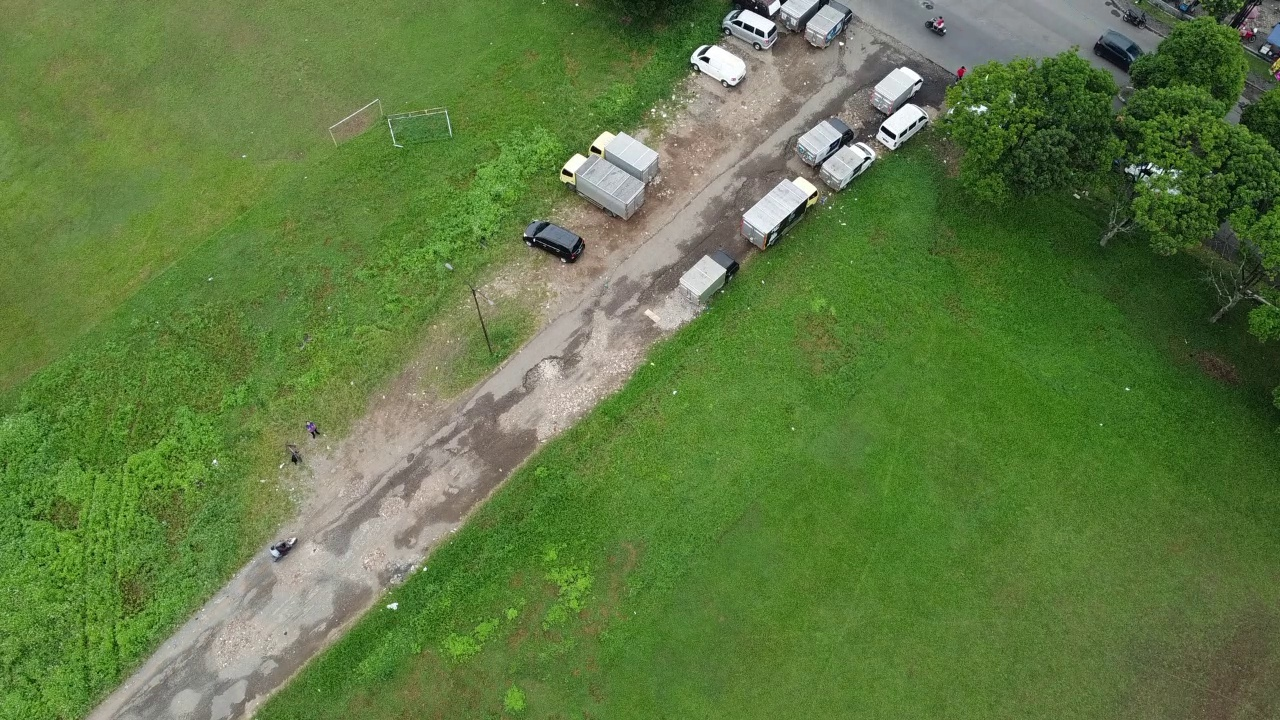mobil: (520, 217, 589, 267), (720, 6, 780, 57), (686, 41, 749, 88), (1098, 28, 1152, 78), (877, 103, 932, 151)
